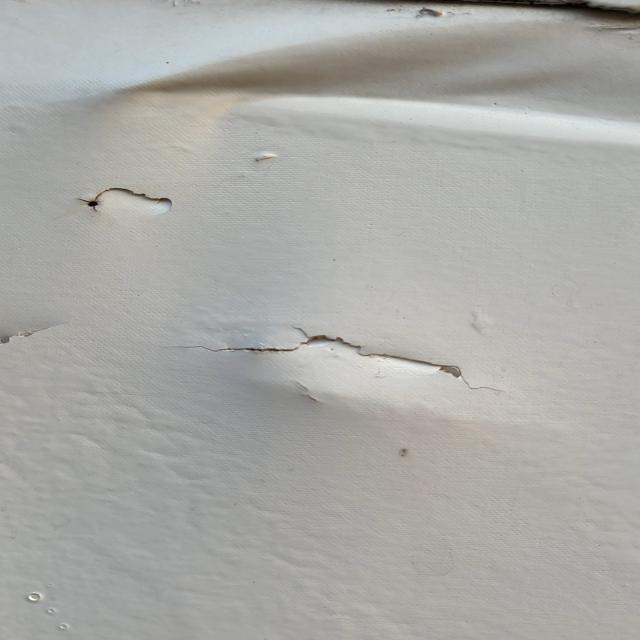Dents or Deformation: (137, 22, 640, 163)
Scratches: (169, 308, 521, 405), (45, 177, 223, 231), (1, 317, 84, 367)
